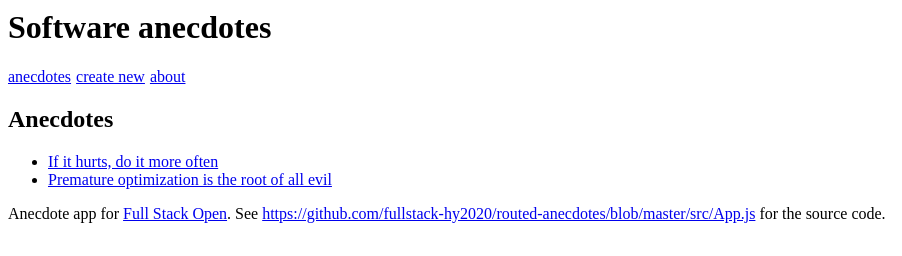
Test: Routed Anecdotes app › clicking on an anecdote displays all info
The image size is (902, 256).
Click the link "If it hurts, do it more often": (133, 162) [48, 153, 218, 170]
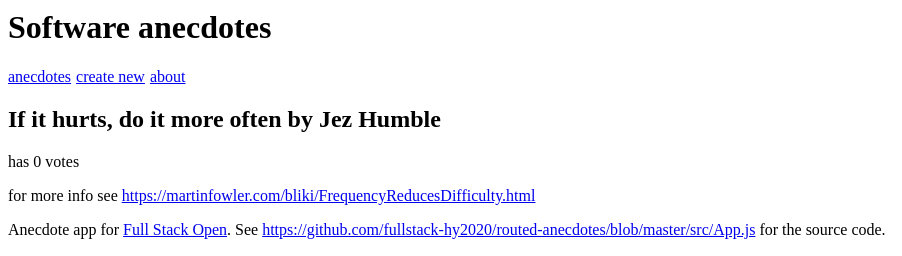
Expected: the heading "If it hurts, do it more often by Jez Humble" is shown, [8, 106, 441, 132]
Expected: the text "has 0 votes" is shown, [8, 153, 79, 170]
Expected: the text "for more info see https://martinfowler.com/bliki/FrequencyReducesDifficulty.html" is shown, [8, 187, 535, 204]
